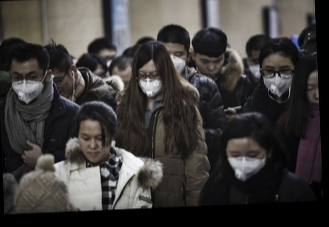with_mask: (225, 147, 267, 183), (12, 67, 46, 103), (262, 62, 295, 97), (137, 66, 164, 97), (167, 48, 188, 73), (247, 55, 263, 80)
without_mask: (78, 130, 113, 163), (195, 53, 226, 77), (52, 73, 76, 98), (305, 79, 319, 112)
